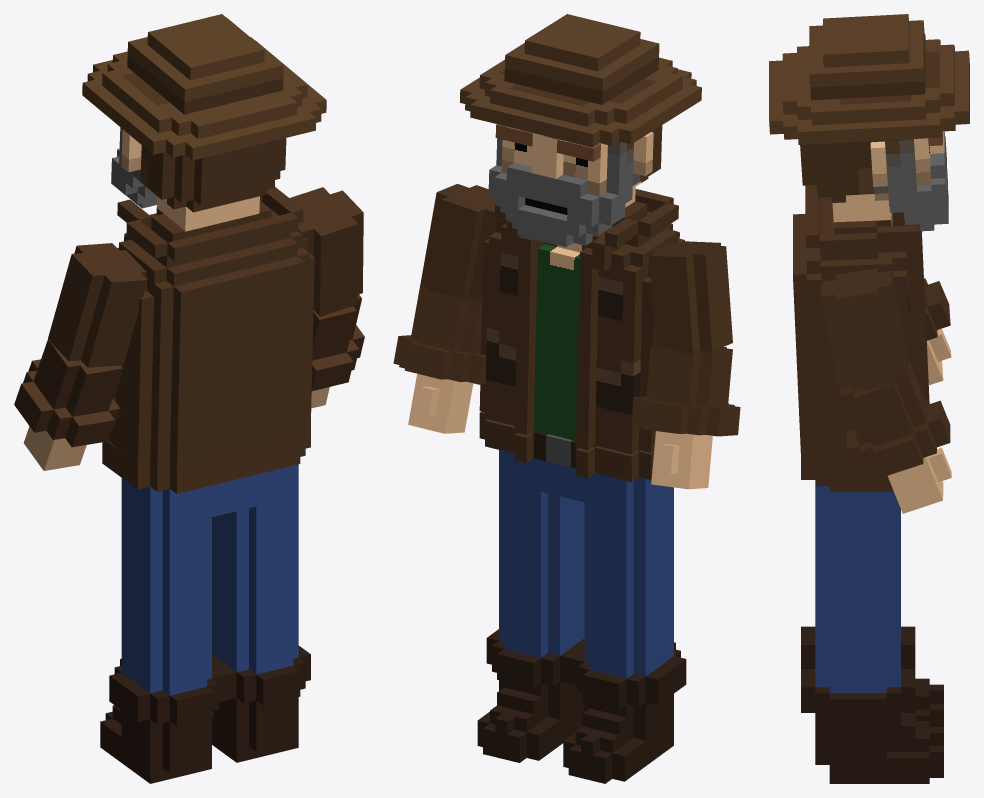
The picture shows the model from 3 angles, left to right: view 1: azimuth 30°, elevation 25°; view 2: azimuth 150°, elevation 25°; view 3: azimuth 270°, elevation 25°; orthographic projection.
Visible parts, largest first — view 1: Chest-local, Hat-local, Left Upper Leg-local, head-local, Left Lower Leg-local, Right Lower leg-local, Right Upper Leg-local, left Upper Arm-local, Left lower arm-local, Right Upper Arm-local, Hips-local, Left Foot-local (+3 smaller); view 2: Chest-local, Hat-local, head-local, Left Lower Leg-local, Left Upper Leg-local, Right Lower leg-local, Right Upper Leg-local, left Upper Arm-local, Left lower arm-local, Right Upper Arm-local, Left Foot-local, Right Lower Arm-local (+4 smaller); view 3: Hat-local, Chest-local, head-local, Right Lower leg-local, Right Upper Leg-local, Right Upper Arm-local, Right Lower Arm-local, Right Foot-local, right Hand-local, Hips-local, Left Lower Leg-local, Left Foot-local (+2 smaller).
Part boxes in pixels (x1,y1,x2,y2): Chest-local: (108,187,314,469); Hat-local: (82,14,326,160); Left Upper Leg-local: (121,478,231,617); head-local: (111,61,286,231); Left Lower Leg-local: (109,595,224,734); Right Lower leg-local: (212,577,310,713); Right Upper Leg-local: (212,464,298,596); left Upper Arm-local: (48,243,147,367); Left lower arm-local: (14,339,123,447); Right Upper Arm-local: (289,187,363,316); Hips-local: (102,422,310,493); Left Foot-local: (100,705,211,783); Chest-local: (479,189,684,454); Hat-local: (460,14,701,147); head-local: (488,65,662,247); Left Lower Leg-local: (572,579,686,717); Left Upper Leg-local: (565,466,673,601); Right Lower leg-local: (486,561,584,696); Right Upper Leg-local: (499,450,584,580); left Upper Arm-local: (647,241,732,353); Left lower arm-local: (631,343,740,436); Right Upper Arm-local: (420,184,496,303); Left Foot-local: (563,694,673,783); Right Lower Arm-local: (393,284,486,384); Hat-local: (769,14,969,144); Chest-local: (793,185,929,466); head-local: (800,51,948,231); Right Lower leg-local: (801,609,915,731); Right Upper Leg-local: (815,486,900,615); Right Upper Arm-local: (821,268,908,391); Right Lower Arm-local: (840,359,950,476); Right Foot-local: (815,713,943,783); right Hand-local: (887,447,951,513); Hips-local: (801,454,893,491); Left Lower Leg-local: (801,626,915,668); Left Foot-local: (915,678,943,726).
Bounding box in the file's own units: 106 × 221 × 56.14.
